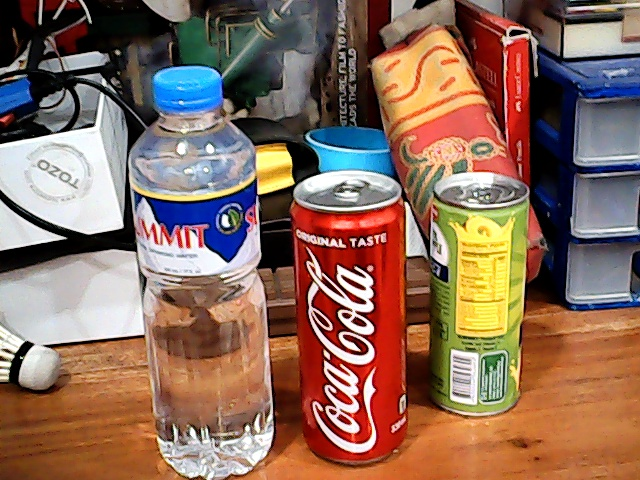Cola: (287, 169, 422, 471)
Pine Juice: (429, 162, 535, 420)
Summit Water: (123, 64, 265, 474)
